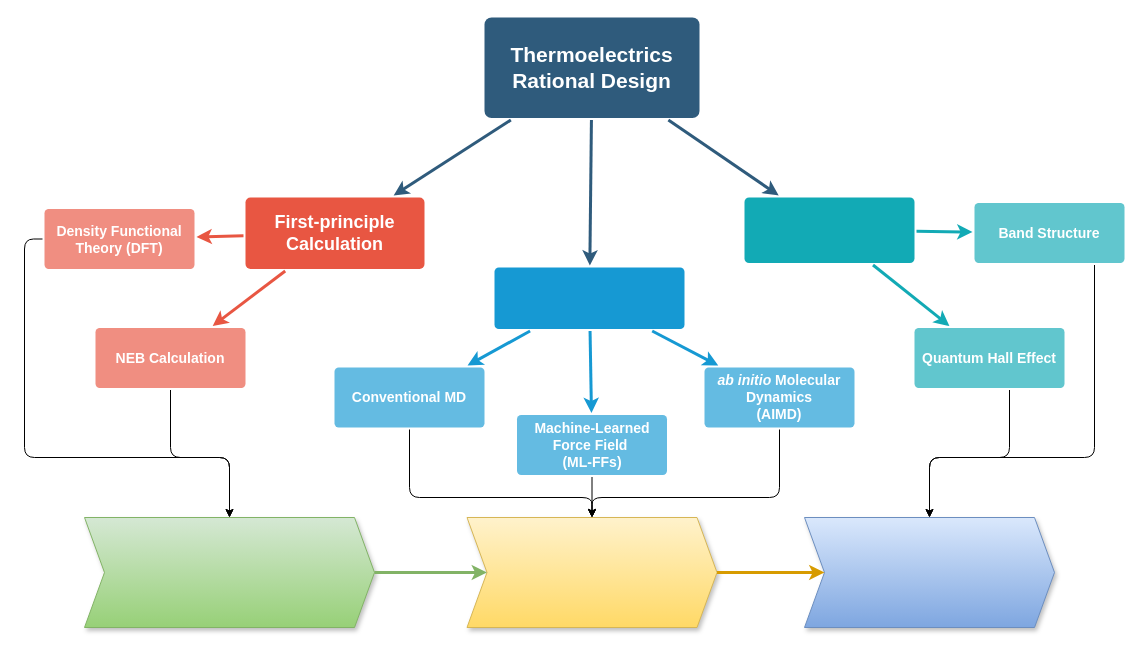
Image size: 1142x652. Some labels were removed from this diagram. The centre of each missing label's shape, as x and y in pixels:
"Condensed Matter Physics" belongs at (829,229).
"Defect Migration Study CsPbBr 3" belongs at (230,573).
"FLARE on-the-fly training" belongs at (592,573).
"Molecular Dynamics" belongs at (589,297).
"Topological Insulator Cr-doped Sb 2 Te 3" belongs at (930,573).
